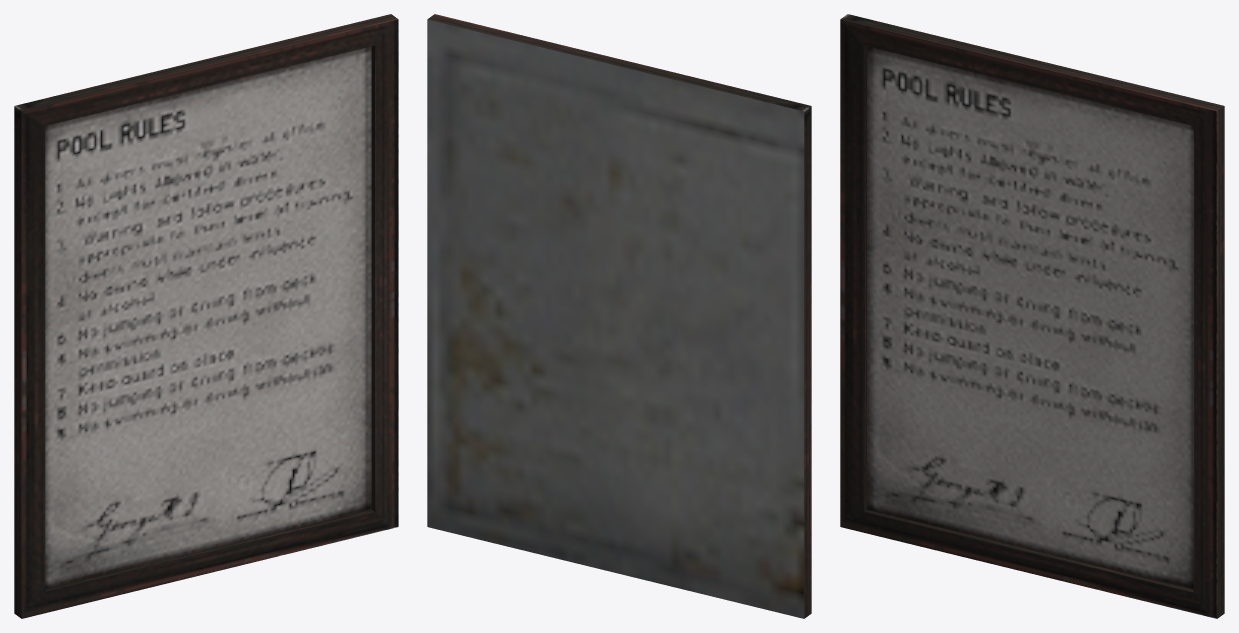
The model's file is Training_Sign28.fbx.
3 renders of one model, left to right at view 1: azimuth 30°, elevation 25°; view 2: azimuth 150°, elevation 25°; view 3: azimuth 330°, elevation 25°, orthographic.
Visible parts, largest first — view 1: tabula; view 2: tabula; view 3: tabula.
Part boxes in pixels (box(x1,y1,x2,y2)): tabula: box(14, 14, 398, 618); tabula: box(427, 14, 811, 618); tabula: box(840, 14, 1224, 618).
Bounding box in the file's own units: 130 × 167 × 4.43.
